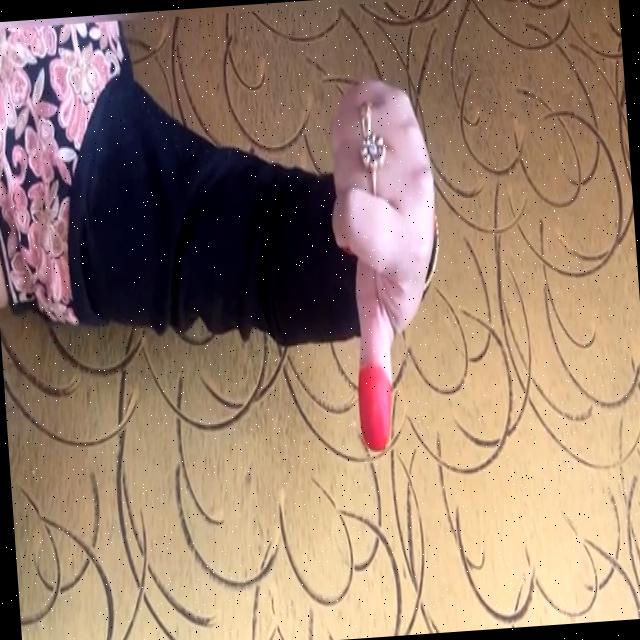Shikhara: (306, 63, 471, 498)
